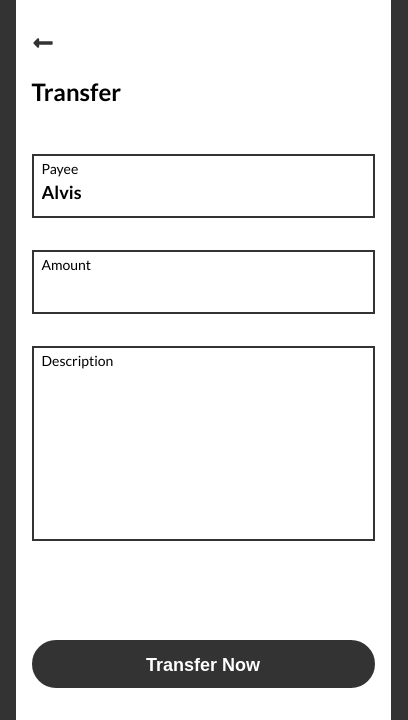
Test: validate transfer form › all empty
The image size is (408, 720).
Expected: the dropdown labelled "Payee" is shown, [42,176,364,208]
Expected: the number field labelled "Amount" is shown, [42,272,364,304]
Click the button "Transfer Now" at (203, 664), box [32,640,374,688]
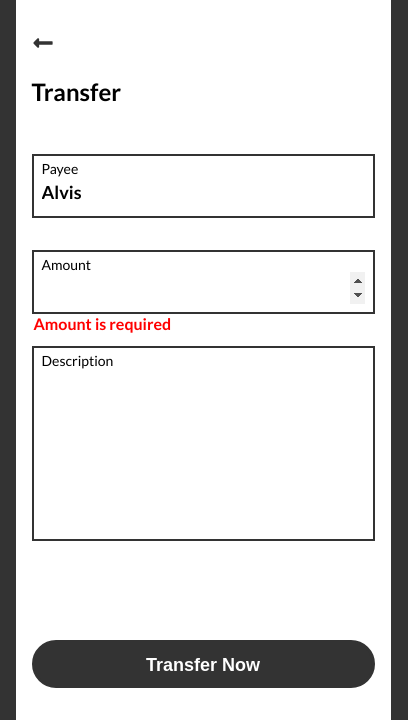
Result: the messages read "Amount is required", in this order at [34,314,171,333]
